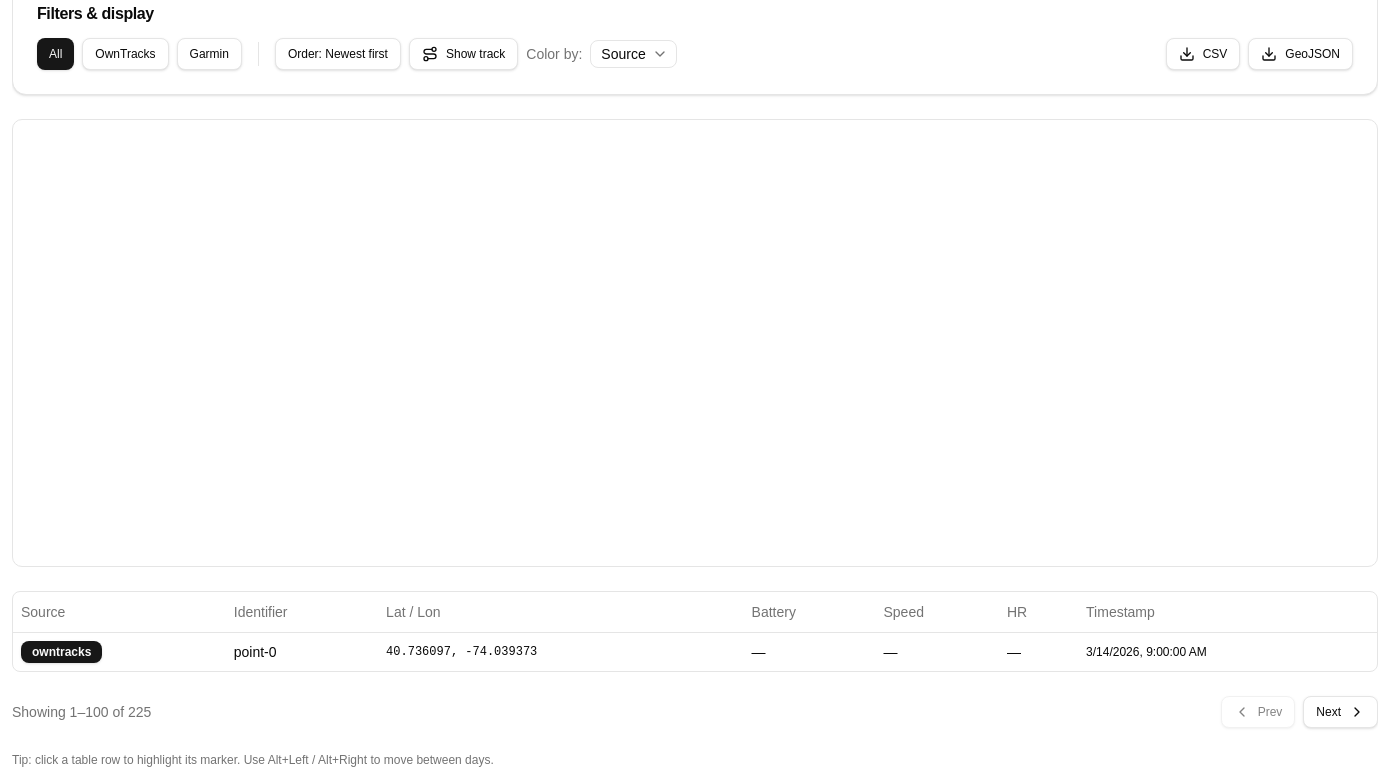
DailySummaryDetailPage › updates pagination offsets as the user moves between point pages
This screenshot has width=1390, height=768.
(page scrolled)
Check: the text "Showing 1–100 of 225" is shown, box [12,702,151,722]
What coordinates should you click on to do the following:
click the button with aria-label "Next page"
I would click on:
 (1341, 712)
Its box is [1303,696,1378,728].
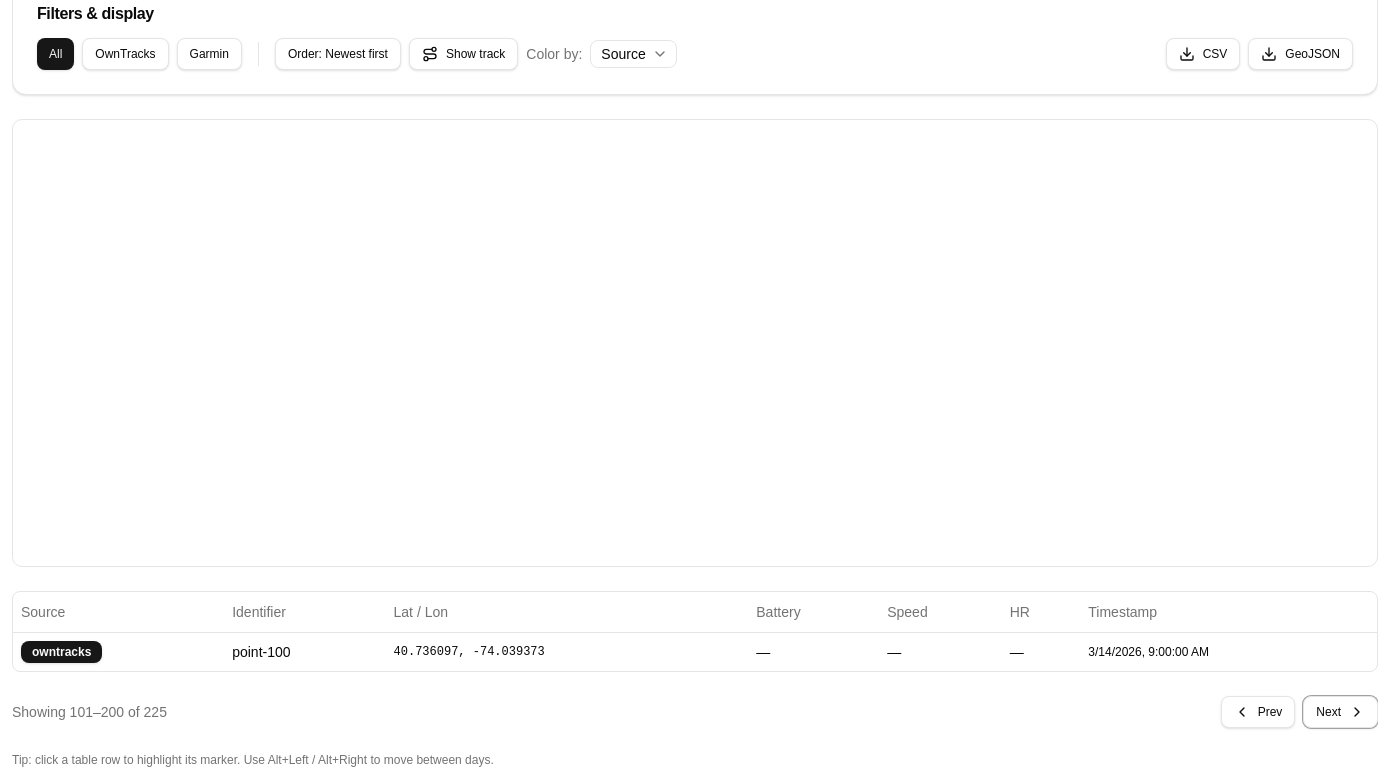
Check: the text "Showing 101–200 of 225" is shown, box [12,702,167,722]
What coordinates should you click on to do the following:
click the button with aria-label "Previous page"
I would click on:
 (1258, 712)
Its box is [1221,696,1295,728].
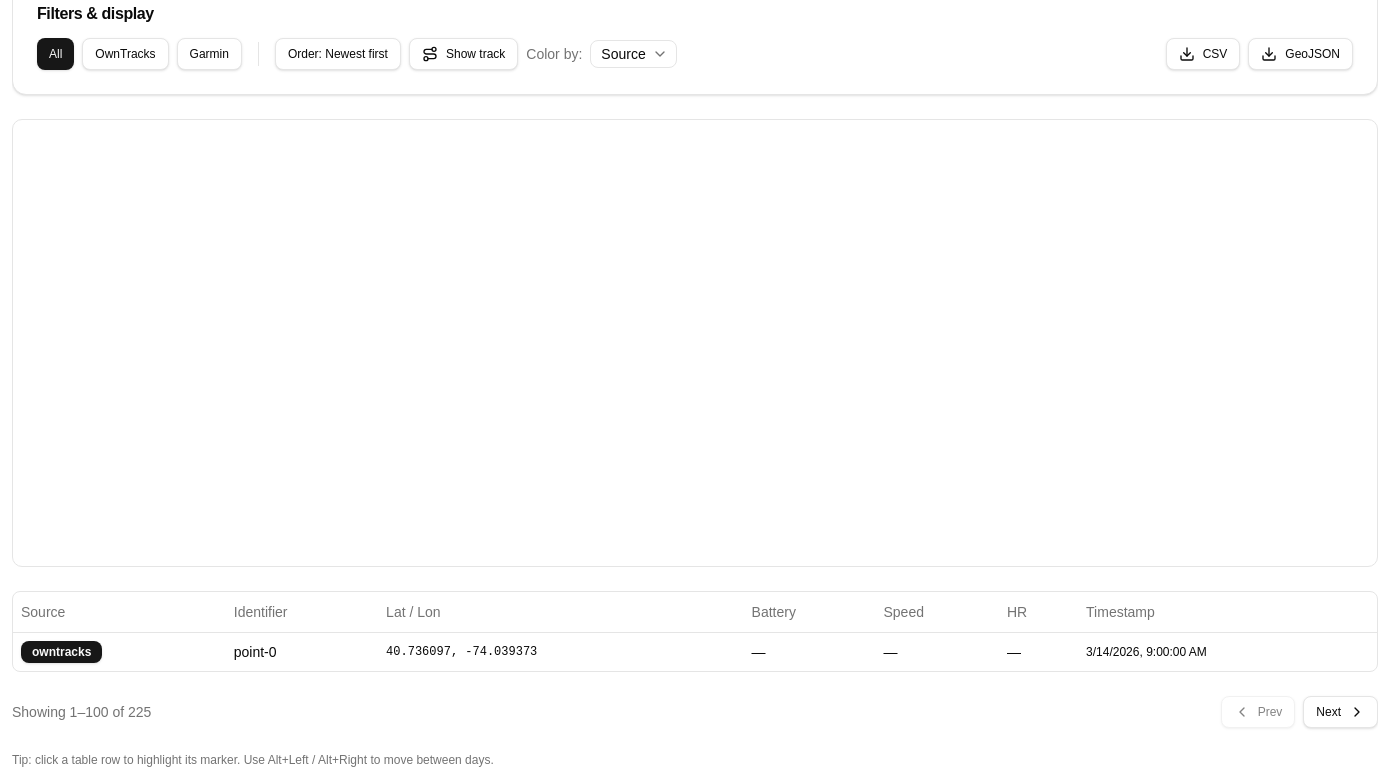
Check: the text "Showing 1–100 of 225" is shown, box [12,702,151,722]
